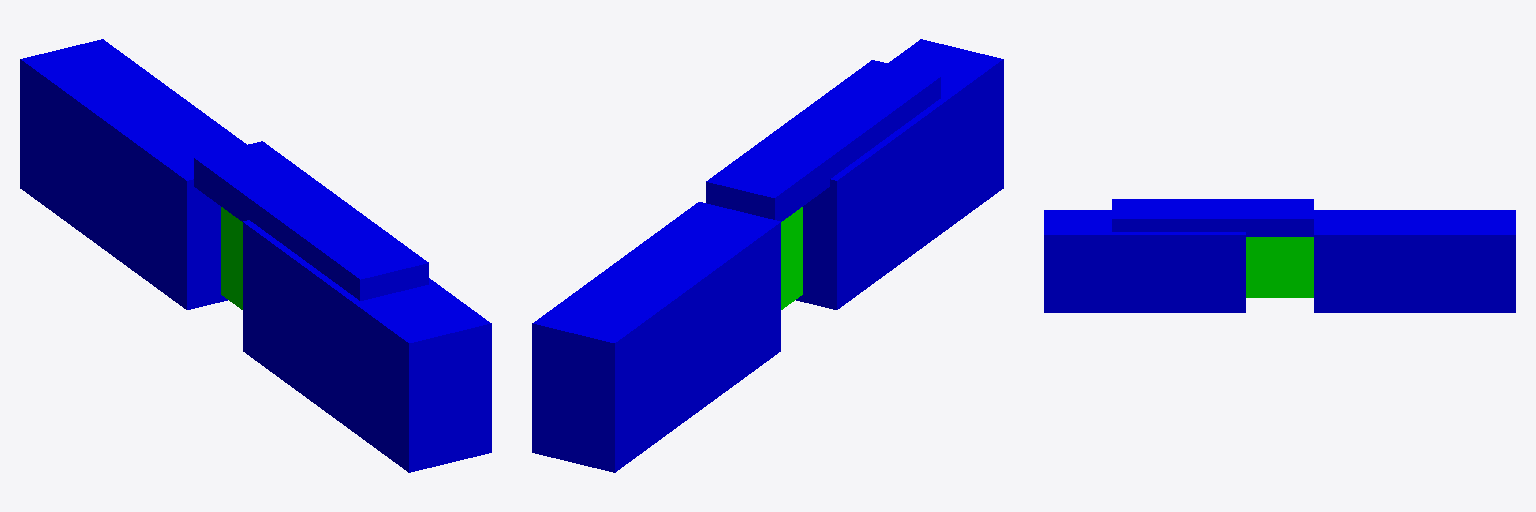
robot.urdf — robot:
<robot name = "robot">
    <link name="root">
        <inertial>
            <origin xyz="0.0 0.0 1.5" rpy="0 0 0"/>
            <mass value="1" />
            <inertia ixx="100" ixy="0" ixz="0" iyy="100" iyz="0" izz="100" />
        </inertial>
        <visual>
            <origin xyz="0.0 0.0 1.5" rpy="0 0 0"/>
            <geometry>
                <box size="0 0 0.0001" />
            </geometry>
            <material name="Green">
                <color rgba="0 1.0 0.0 1.0"/>
            </material>
        </visual>
        <collision>
            <origin xyz="0.0 0.0 1.5" rpy="0 0 0"/>
            <geometry>
                <box size="0 0 0.0001" />
            </geometry>
        </collision>
    </link>
    <joint name="root_000" type="revolute">
       <parent link="root"/>
       <child  link="000"/>
       <origin rpy="0 0 0" xyz="0.0 0.0 1.5" />
     <axis xyz="1 0 0"/>
       <limit effort="0.0" lower="-3.14159" upper="3.14159" velocity="0.0"/>
    </joint>
    <link name="000">
        <inertial>
            <origin xyz="0.0 0.35 0.0" rpy="0 0 0"/>
            <mass value="1" />
            <inertia ixx="100" ixy="0" ixz="0" iyy="100" iyz="0" izz="100" />
        </inertial>
        <visual>
            <origin xyz="0.0 0.35 0.0" rpy="0 0 0"/>
            <geometry>
                <box size="0.5 0.7 0.2" />
            </geometry>
            <material name="Blue">
                <color rgba="0 0.0 1.0 1.0"/>
            </material>
        </visual>
        <collision>
            <origin xyz="0.0 0.35 0.0" rpy="0 0 0"/>
            <geometry>
                <box size="0.5 0.7 0.2" />
            </geometry>
        </collision>
    </link>
    <joint name="000_010" type="revolute">
       <parent link="000"/>
       <child  link="010"/>
       <origin rpy="0 0 0" xyz="0.0 0.7 -0.0" />
     <axis xyz="0 1 0"/>
       <limit effort="0.0" lower="-3.14159" upper="3.14159" velocity="0.0"/>
    </joint>
    <link name="010">
        <inertial>
            <origin xyz="0.0 0.35 -0.0" rpy="0 0 0"/>
            <mass value="1" />
            <inertia ixx="100" ixy="0" ixz="0" iyy="100" iyz="0" izz="100" />
        </inertial>
        <visual>
            <origin xyz="0.0 0.35 -0.0" rpy="0 0 0"/>
            <geometry>
                <box size="0.5 0.7 0.2" />
            </geometry>
            <material name="Blue">
                <color rgba="0 0.0 1.0 1.0"/>
            </material>
        </visual>
        <collision>
            <origin xyz="0.0 0.35 -0.0" rpy="0 0 0"/>
            <geometry>
                <box size="0.5 0.7 0.2" />
            </geometry>
        </collision>
    </link>
    <joint name="010_020" type="revolute">
       <parent link="010"/>
       <child  link="020"/>
       <origin rpy="0 0 0" xyz="0.0 0.7 -0.0" />
     <axis xyz="0 1 0"/>
       <limit effort="0.0" lower="-3.14159" upper="3.14159" velocity="0.0"/>
    </joint>
    <link name="020">
        <inertial>
            <origin xyz="0.0 0.35 -0.0" rpy="0 0 0"/>
            <mass value="1" />
            <inertia ixx="100" ixy="0" ixz="0" iyy="100" iyz="0" izz="100" />
        </inertial>
        <visual>
            <origin xyz="0.0 0.35 -0.0" rpy="0 0 0"/>
            <geometry>
                <box size="0.5 0.7 0.2" />
            </geometry>
            <material name="Blue">
                <color rgba="0 0.0 1.0 1.0"/>
            </material>
        </visual>
        <collision>
            <origin xyz="0.0 0.35 -0.0" rpy="0 0 0"/>
            <geometry>
                <box size="0.5 0.7 0.2" />
            </geometry>
        </collision>
    </link>
    <joint name="020_020-100" type="revolute">
       <parent link="020"/>
       <child  link="020-100"/>
       <origin rpy="0 0 0" xyz="0.0 0.35 -0.1" />
     <axis xyz="0 0 1"/>
       <limit effort="0.0" lower="-3.14159" upper="3.14159" velocity="0.0"/>
    </joint>
    <link name="020-100">
        <inertial>
            <origin xyz="0.0 0.0 -0.2" rpy="0 0 0"/>
            <mass value="1" />
            <inertia ixx="100" ixy="0" ixz="0" iyy="100" iyz="0" izz="100" />
        </inertial>
        <visual>
            <origin xyz="0.0 0.0 -0.2" rpy="0 0 0"/>
            <geometry>
                <box size="0.1 0.7 0.4" />
            </geometry>
            <material name="Green">
                <color rgba="0 1.0 0.0 1.0"/>
            </material>
        </visual>
        <collision>
            <origin xyz="0.0 0.0 -0.2" rpy="0 0 0"/>
            <geometry>
                <box size="0.1 0.7 0.4" />
            </geometry>
        </collision>
    </link>
    <joint name="020-100_020-110" type="revolute">
       <parent link="020-100"/>
       <child  link="020-110"/>
       <origin rpy="0 0 0" xyz="0.0 0.0 -0.4" />
     <axis xyz="0 0 1"/>
       <limit effort="0.0" lower="-3.14159" upper="3.14159" velocity="0.0"/>
    </joint>
    <link name="020-110">
        <inertial>
            <origin xyz="0.0 0.0 -0.2" rpy="0 0 0"/>
            <mass value="1" />
            <inertia ixx="100" ixy="0" ixz="0" iyy="100" iyz="0" izz="100" />
        </inertial>
        <visual>
            <origin xyz="0.0 0.0 -0.2" rpy="0 0 0"/>
            <geometry>
                <box size="0.1 0.7 0.4" />
            </geometry>
            <material name="Green">
                <color rgba="0 1.0 0.0 1.0"/>
            </material>
        </visual>
        <collision>
            <origin xyz="0.0 0.0 -0.2" rpy="0 0 0"/>
            <geometry>
                <box size="0.1 0.7 0.4" />
            </geometry>
        </collision>
    </link>
    <joint name="020-110_020-110-200" type="revolute">
       <parent link="020-110"/>
       <child  link="020-110-200"/>
       <origin rpy="0 0 0" xyz="0.0 0.35 -0.2" />
     <axis xyz="0 1 0"/>
       <limit effort="0.0" lower="-3.14159" upper="3.14159" velocity="0.0"/>
    </joint>
    <link name="020-110-200">
        <inertial>
            <origin xyz="0.0 0.35 -0.0" rpy="0 0 0"/>
            <mass value="1" />
            <inertia ixx="100" ixy="0" ixz="0" iyy="100" iyz="0" izz="100" />
        </inertial>
        <visual>
            <origin xyz="0.0 0.35 -0.0" rpy="0 0 0"/>
            <geometry>
                <box size="0.6 0.7 0.5" />
            </geometry>
            <material name="Blue">
                <color rgba="0 0.0 1.0 1.0"/>
            </material>
        </visual>
        <collision>
            <origin xyz="0.0 0.35 -0.0" rpy="0 0 0"/>
            <geometry>
                <box size="0.6 0.7 0.5" />
            </geometry>
        </collision>
    </link>
    <joint name="020-110-200_020-110-210" type="revolute">
       <parent link="020-110-200"/>
       <child  link="020-110-210"/>
       <origin rpy="0 0 0" xyz="0.0 0.7 -0.0" />
     <axis xyz="0 1 0"/>
       <limit effort="0.0" lower="-3.14159" upper="3.14159" velocity="0.0"/>
    </joint>
    <link name="020-110-210">
        <inertial>
            <origin xyz="0.0 0.35 -0.0" rpy="0 0 0"/>
            <mass value="1" />
            <inertia ixx="100" ixy="0" ixz="0" iyy="100" iyz="0" izz="100" />
        </inertial>
        <visual>
            <origin xyz="0.0 0.35 -0.0" rpy="0 0 0"/>
            <geometry>
                <box size="0.6 0.7 0.5" />
            </geometry>
            <material name="Blue">
                <color rgba="0 0.0 1.0 1.0"/>
            </material>
        </visual>
        <collision>
            <origin xyz="0.0 0.35 -0.0" rpy="0 0 0"/>
            <geometry>
                <box size="0.6 0.7 0.5" />
            </geometry>
        </collision>
    </link>
    <joint name="020-110-210_020-110-220" type="revolute">
       <parent link="020-110-210"/>
       <child  link="020-110-220"/>
       <origin rpy="0 0 0" xyz="0.0 0.7 -0.0" />
     <axis xyz="0 1 0"/>
       <limit effort="0.0" lower="-3.14159" upper="3.14159" velocity="0.0"/>
    </joint>
    <link name="020-110-220">
        <inertial>
            <origin xyz="0.0 0.35 -0.0" rpy="0 0 0"/>
            <mass value="1" />
            <inertia ixx="100" ixy="0" ixz="0" iyy="100" iyz="0" izz="100" />
        </inertial>
        <visual>
            <origin xyz="0.0 0.35 -0.0" rpy="0 0 0"/>
            <geometry>
                <box size="0.6 0.7 0.5" />
            </geometry>
            <material name="Blue">
                <color rgba="0 0.0 1.0 1.0"/>
            </material>
        </visual>
        <collision>
            <origin xyz="0.0 0.35 -0.0" rpy="0 0 0"/>
            <geometry>
                <box size="0.6 0.7 0.5" />
            </geometry>
        </collision>
    </link>
    <joint name="020-110_020-110-201" type="revolute">
       <parent link="020-110"/>
       <child  link="020-110-201"/>
       <origin rpy="0 0 0" xyz="0.0 -0.35 -0.2" />
     <axis xyz="0 1 0"/>
       <limit effort="0.0" lower="-3.14159" upper="3.14159" velocity="0.0"/>
    </joint>
    <link name="020-110-201">
        <inertial>
            <origin xyz="0.0 -0.35 -0.0" rpy="0 0 0"/>
            <mass value="1" />
            <inertia ixx="100" ixy="0" ixz="0" iyy="100" iyz="0" izz="100" />
        </inertial>
        <visual>
            <origin xyz="0.0 -0.35 -0.0" rpy="0 0 0"/>
            <geometry>
                <box size="0.6 0.7 0.5" />
            </geometry>
            <material name="Blue">
                <color rgba="0 0.0 1.0 1.0"/>
            </material>
        </visual>
        <collision>
            <origin xyz="0.0 -0.35 -0.0" rpy="0 0 0"/>
            <geometry>
                <box size="0.6 0.7 0.5" />
            </geometry>
        </collision>
    </link>
    <joint name="020-110-201_020-110-211" type="revolute">
       <parent link="020-110-201"/>
       <child  link="020-110-211"/>
       <origin rpy="0 0 0" xyz="0.0 -0.7 -0.0" />
     <axis xyz="0 1 0"/>
       <limit effort="0.0" lower="-3.14159" upper="3.14159" velocity="0.0"/>
    </joint>
    <link name="020-110-211">
        <inertial>
            <origin xyz="0.0 -0.35 -0.0" rpy="0 0 0"/>
            <mass value="1" />
            <inertia ixx="100" ixy="0" ixz="0" iyy="100" iyz="0" izz="100" />
        </inertial>
        <visual>
            <origin xyz="0.0 -0.35 -0.0" rpy="0 0 0"/>
            <geometry>
                <box size="0.6 0.7 0.5" />
            </geometry>
            <material name="Blue">
                <color rgba="0 0.0 1.0 1.0"/>
            </material>
        </visual>
        <collision>
            <origin xyz="0.0 -0.35 -0.0" rpy="0 0 0"/>
            <geometry>
                <box size="0.6 0.7 0.5" />
            </geometry>
        </collision>
    </link>
    <joint name="020-110-211_020-110-221" type="revolute">
       <parent link="020-110-211"/>
       <child  link="020-110-221"/>
       <origin rpy="0 0 0" xyz="0.0 -0.7 -0.0" />
     <axis xyz="0 1 0"/>
       <limit effort="0.0" lower="-3.14159" upper="3.14159" velocity="0.0"/>
    </joint>
    <link name="020-110-221">
        <inertial>
            <origin xyz="0.0 -0.35 -0.0" rpy="0 0 0"/>
            <mass value="1" />
            <inertia ixx="100" ixy="0" ixz="0" iyy="100" iyz="0" izz="100" />
        </inertial>
        <visual>
            <origin xyz="0.0 -0.35 -0.0" rpy="0 0 0"/>
            <geometry>
                <box size="0.6 0.7 0.5" />
            </geometry>
            <material name="Blue">
                <color rgba="0 0.0 1.0 1.0"/>
            </material>
        </visual>
        <collision>
            <origin xyz="0.0 -0.35 -0.0" rpy="0 0 0"/>
            <geometry>
                <box size="0.6 0.7 0.5" />
            </geometry>
        </collision>
    </link>
    <joint name="020-100_020-100-200" type="revolute">
       <parent link="020-100"/>
       <child  link="020-100-200"/>
       <origin rpy="0 0 0" xyz="0.0 0.35 -0.2" />
     <axis xyz="0 1 0"/>
       <limit effort="0.0" lower="-3.14159" upper="3.14159" velocity="0.0"/>
    </joint>
    <link name="020-100-200">
        <inertial>
            <origin xyz="0.0 0.35 -0.0" rpy="0 0 0"/>
            <mass value="1" />
            <inertia ixx="100" ixy="0" ixz="0" iyy="100" iyz="0" izz="100" />
        </inertial>
        <visual>
            <origin xyz="0.0 0.35 -0.0" rpy="0 0 0"/>
            <geometry>
                <box size="0.6 0.7 0.5" />
            </geometry>
            <material name="Blue">
                <color rgba="0 0.0 1.0 1.0"/>
            </material>
        </visual>
        <collision>
            <origin xyz="0.0 0.35 -0.0" rpy="0 0 0"/>
            <geometry>
                <box size="0.6 0.7 0.5" />
            </geometry>
        </collision>
    </link>
    <joint name="020-100-200_020-100-210" type="revolute">
       <parent link="020-100-200"/>
       <child  link="020-100-210"/>
       <origin rpy="0 0 0" xyz="0.0 0.7 -0.0" />
     <axis xyz="0 1 0"/>
       <limit effort="0.0" lower="-3.14159" upper="3.14159" velocity="0.0"/>
    </joint>
    <link name="020-100-210">
        <inertial>
            <origin xyz="0.0 0.35 -0.0" rpy="0 0 0"/>
            <mass value="1" />
            <inertia ixx="100" ixy="0" ixz="0" iyy="100" iyz="0" izz="100" />
        </inertial>
        <visual>
            <origin xyz="0.0 0.35 -0.0" rpy="0 0 0"/>
            <geometry>
                <box size="0.6 0.7 0.5" />
            </geometry>
            <material name="Blue">
                <color rgba="0 0.0 1.0 1.0"/>
            </material>
        </visual>
        <collision>
            <origin xyz="0.0 0.35 -0.0" rpy="0 0 0"/>
            <geometry>
                <box size="0.6 0.7 0.5" />
            </geometry>
        </collision>
    </link>
    <joint name="020-100-210_020-100-220" type="revolute">
       <parent link="020-100-210"/>
       <child  link="020-100-220"/>
       <origin rpy="0 0 0" xyz="0.0 0.7 -0.0" />
     <axis xyz="0 1 0"/>
       <limit effort="0.0" lower="-3.14159" upper="3.14159" velocity="0.0"/>
    </joint>
    <link name="020-100-220">
        <inertial>
            <origin xyz="0.0 0.35 -0.0" rpy="0 0 0"/>
            <mass value="1" />
            <inertia ixx="100" ixy="0" ixz="0" iyy="100" iyz="0" izz="100" />
        </inertial>
        <visual>
            <origin xyz="0.0 0.35 -0.0" rpy="0 0 0"/>
            <geometry>
                <box size="0.6 0.7 0.5" />
            </geometry>
            <material name="Blue">
                <color rgba="0 0.0 1.0 1.0"/>
            </material>
        </visual>
        <collision>
            <origin xyz="0.0 0.35 -0.0" rpy="0 0 0"/>
            <geometry>
                <box size="0.6 0.7 0.5" />
            </geometry>
        </collision>
    </link>
    <joint name="020-100_020-100-201" type="revolute">
       <parent link="020-100"/>
       <child  link="020-100-201"/>
       <origin rpy="0 0 0" xyz="0.0 -0.35 -0.2" />
     <axis xyz="0 1 0"/>
       <limit effort="0.0" lower="-3.14159" upper="3.14159" velocity="0.0"/>
    </joint>
    <link name="020-100-201">
        <inertial>
            <origin xyz="0.0 -0.35 -0.0" rpy="0 0 0"/>
            <mass value="1" />
            <inertia ixx="100" ixy="0" ixz="0" iyy="100" iyz="0" izz="100" />
        </inertial>
        <visual>
            <origin xyz="0.0 -0.35 -0.0" rpy="0 0 0"/>
            <geometry>
                <box size="0.6 0.7 0.5" />
            </geometry>
            <material name="Blue">
                <color rgba="0 0.0 1.0 1.0"/>
            </material>
        </visual>
        <collision>
            <origin xyz="0.0 -0.35 -0.0" rpy="0 0 0"/>
            <geometry>
                <box size="0.6 0.7 0.5" />
            </geometry>
        </collision>
    </link>
    <joint name="020-100-201_020-100-211" type="revolute">
       <parent link="020-100-201"/>
       <child  link="020-100-211"/>
       <origin rpy="0 0 0" xyz="0.0 -0.7 -0.0" />
     <axis xyz="0 1 0"/>
       <limit effort="0.0" lower="-3.14159" upper="3.14159" velocity="0.0"/>
    </joint>
    <link name="020-100-211">
        <inertial>
            <origin xyz="0.0 -0.35 -0.0" rpy="0 0 0"/>
            <mass value="1" />
            <inertia ixx="100" ixy="0" ixz="0" iyy="100" iyz="0" izz="100" />
        </inertial>
        <visual>
            <origin xyz="0.0 -0.35 -0.0" rpy="0 0 0"/>
            <geometry>
                <box size="0.6 0.7 0.5" />
            </geometry>
            <material name="Blue">
                <color rgba="0 0.0 1.0 1.0"/>
            </material>
        </visual>
        <collision>
            <origin xyz="0.0 -0.35 -0.0" rpy="0 0 0"/>
            <geometry>
                <box size="0.6 0.7 0.5" />
            </geometry>
        </collision>
    </link>
    <joint name="020-100-211_020-100-221" type="revolute">
       <parent link="020-100-211"/>
       <child  link="020-100-221"/>
       <origin rpy="0 0 0" xyz="0.0 -0.7 -0.0" />
     <axis xyz="0 1 0"/>
       <limit effort="0.0" lower="-3.14159" upper="3.14159" velocity="0.0"/>
    </joint>
    <link name="020-100-221">
        <inertial>
            <origin xyz="0.0 -0.35 -0.0" rpy="0 0 0"/>
            <mass value="1" />
            <inertia ixx="100" ixy="0" ixz="0" iyy="100" iyz="0" izz="100" />
        </inertial>
        <visual>
            <origin xyz="0.0 -0.35 -0.0" rpy="0 0 0"/>
            <geometry>
                <box size="0.6 0.7 0.5" />
            </geometry>
            <material name="Blue">
                <color rgba="0 0.0 1.0 1.0"/>
            </material>
        </visual>
        <collision>
            <origin xyz="0.0 -0.35 -0.0" rpy="0 0 0"/>
            <geometry>
                <box size="0.6 0.7 0.5" />
            </geometry>
        </collision>
    </link>
</robot>

--- Facts derived from the render (not from the file) ---
Views: 3 orthographic renders of the robot side by side, from view 1: azimuth 30°, elevation 25°; view 2: azimuth 150°, elevation 25°; view 3: azimuth 270°, elevation 25°.
Model robot with 18 links and 17 joints (17 revolute), rooted at root, posed every joint at zero.
Visible links, largest first — view 1: [phone redacted] (×12), 000, 020, 010, 020-110, 020-100; view 2: [phone redacted] (×12), 020, 010, 000, 020-110, 020-100; view 3: [phone redacted] (×12), 020, 020-110, 000, 010, 020-100.
Link boxes in pixels (left/top/right/bottom): [phone redacted] (×12): left=20, top=39, right=491, bottom=472; 000: left=305, top=222, right=428, bottom=300; 020: left=194, top=141, right=317, bottom=221; 010: left=249, top=182, right=372, bottom=259; 020-110: left=221, top=237, right=242, bottom=309; 020-100: left=221, top=207, right=242, bottom=252; [phone redacted] (×12): left=532, top=39, right=1003, bottom=472; 020: left=706, top=141, right=829, bottom=221; 010: left=762, top=101, right=885, bottom=178; 000: left=817, top=60, right=940, bottom=137; 020-110: left=781, top=237, right=802, bottom=309; 020-100: left=781, top=207, right=802, bottom=252; [phone redacted] (×12): left=1044, top=210, right=1515, bottom=312; 020: left=1246, top=199, right=1313, bottom=236; 020-110: left=1246, top=264, right=1313, bottom=297; 000: left=1112, top=199, right=1178, bottom=231; 010: left=1179, top=199, right=1245, bottom=231; 020-100: left=1246, top=237, right=1313, bottom=263.
Bounding box of the posed robot: 0.6 × 4.9 × 1.05 m (x, y, z).
Geometry: primitives only (box / cylinder / sphere), no mesh files.
